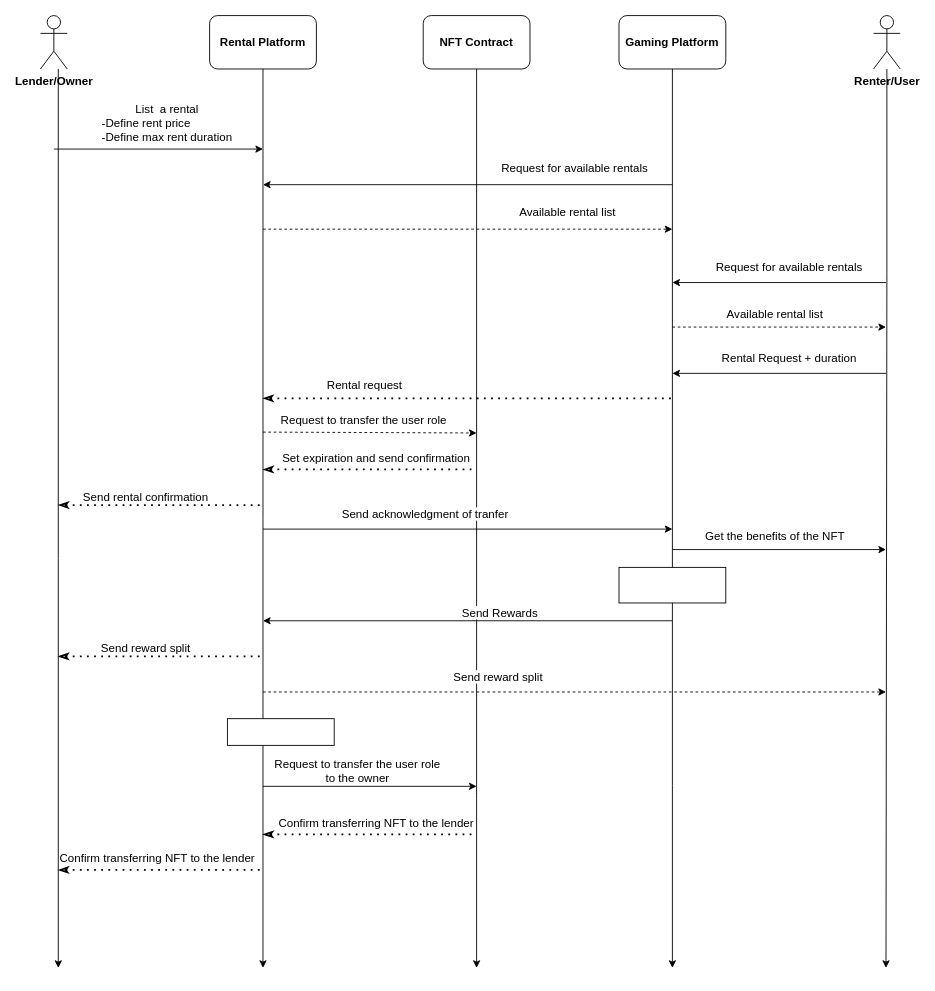
This 935x991 diagram has some shape labels left out. The shapes that lost their labels are listed below. From the top down, each one's box as (x1, y1, x2, y2) in pixels, then its label:
(618, 566, 726, 603): For each individual win of the renter
(227, 718, 334, 745): End of usable time
